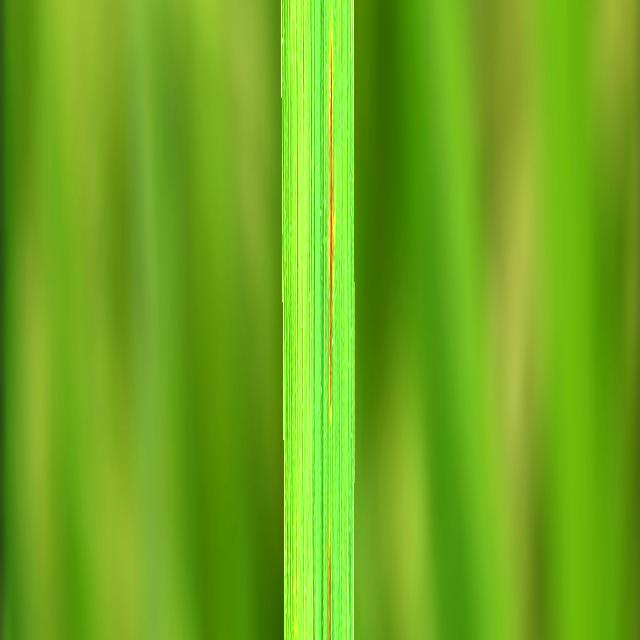NBS: (330, 35, 334, 413), (328, 525, 331, 640)
